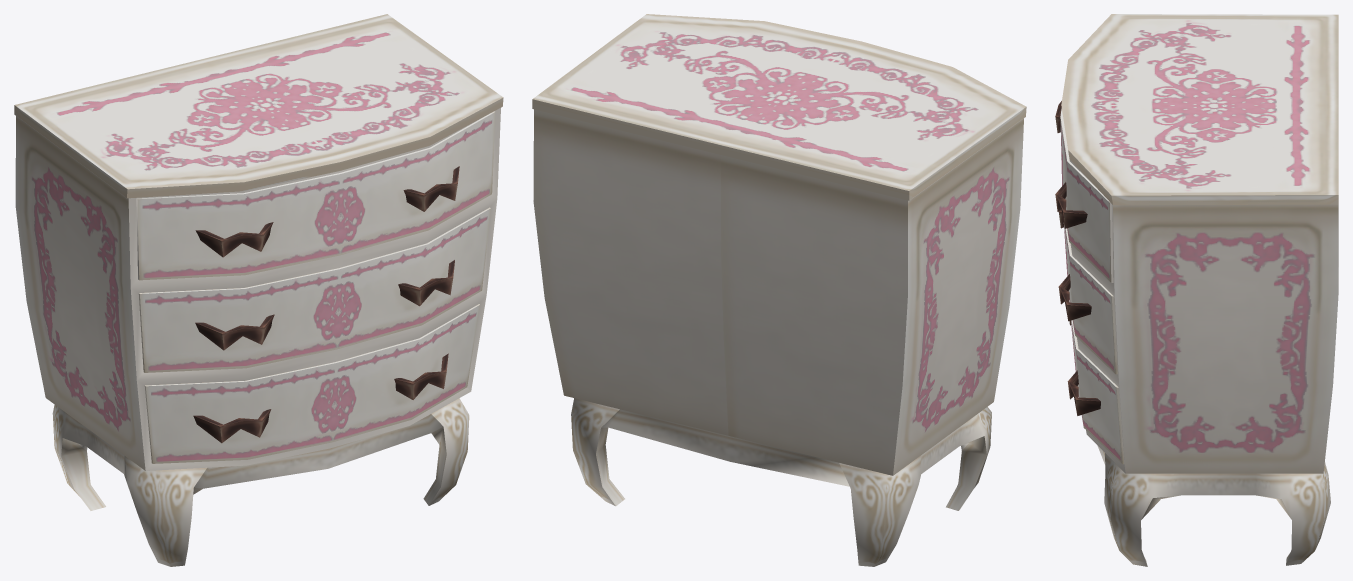
Rendered from RococoCabinet_HD.fbx.
3 views of the same model, side by side, from view 1: azimuth 30°, elevation 25°; view 2: azimuth 150°, elevation 25°; view 3: azimuth 270°, elevation 25° (orthographic). The views are drawn at different scales.
Visible parts, largest first — view 1: RococoCabinet; view 2: RococoCabinet; view 3: RococoCabinet.
Part boxes in pixels (x1,y1,x2,y2): RococoCabinet: [14, 14, 503, 566]; RococoCabinet: [532, 14, 1026, 566]; RococoCabinet: [1055, 14, 1338, 566].
Bounding box in the file's own units: 0.9702 × 0.9833 × 0.6393.
